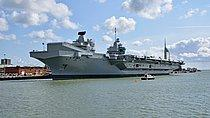MIL_Ship: (29, 28, 181, 76)
